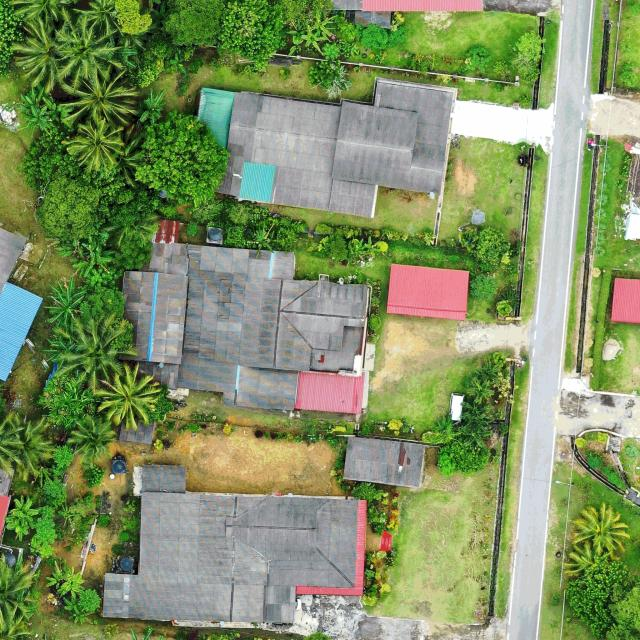0: (46, 314, 136, 394), (55, 13, 120, 92), (59, 65, 139, 129), (13, 15, 76, 96), (95, 363, 161, 430), (1, 409, 58, 484), (571, 503, 632, 557), (70, 116, 124, 172), (0, 552, 42, 618), (70, 414, 119, 463), (564, 539, 618, 576), (79, 0, 122, 32), (0, 604, 34, 640), (50, 442, 76, 473), (83, 462, 106, 488)
banana_tree2: (44, 277, 92, 327), (72, 237, 116, 280), (46, 558, 86, 597), (138, 86, 168, 125), (25, 105, 58, 139), (248, 221, 276, 259), (6, 494, 39, 525), (431, 413, 461, 445), (15, 84, 47, 113), (62, 597, 94, 625), (310, 12, 337, 38), (4, 516, 34, 539), (300, 30, 328, 52), (286, 20, 310, 45), (347, 239, 368, 264), (170, 54, 187, 74), (365, 236, 379, 257)
tree: (11, 129, 158, 243), (134, 110, 233, 206), (566, 559, 640, 640), (220, 0, 287, 75), (38, 375, 96, 428), (162, 0, 226, 48), (459, 227, 512, 268), (436, 442, 492, 478), (509, 32, 548, 81), (308, 60, 352, 101), (80, 284, 127, 322), (112, 0, 154, 36), (467, 375, 495, 405), (360, 23, 389, 50), (469, 273, 497, 299), (475, 357, 501, 384), (77, 586, 101, 614), (34, 527, 61, 544), (43, 478, 65, 498), (321, 43, 340, 61), (38, 543, 56, 559), (36, 517, 56, 530), (40, 506, 56, 518)
